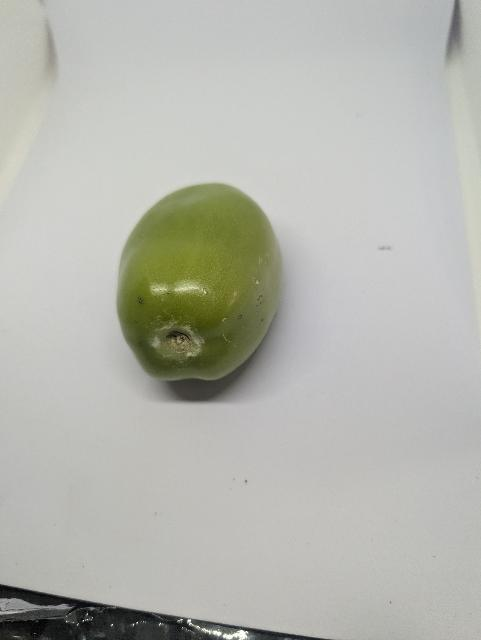green: (100, 177, 300, 394)
